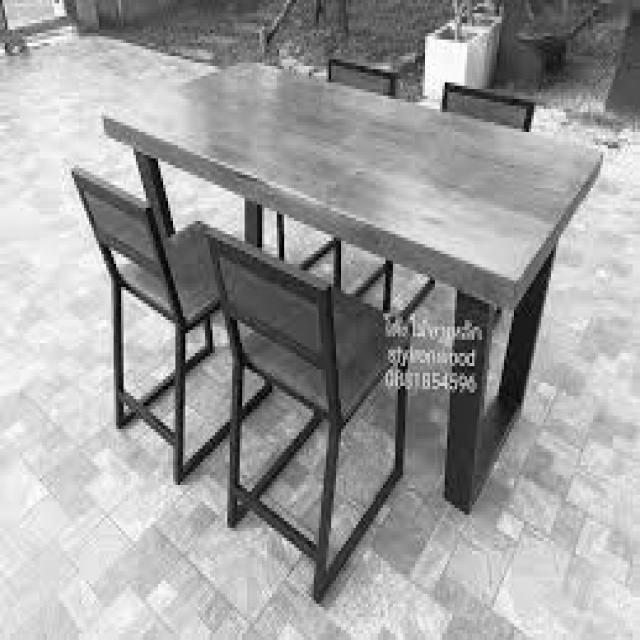table: (98, 41, 608, 306)
